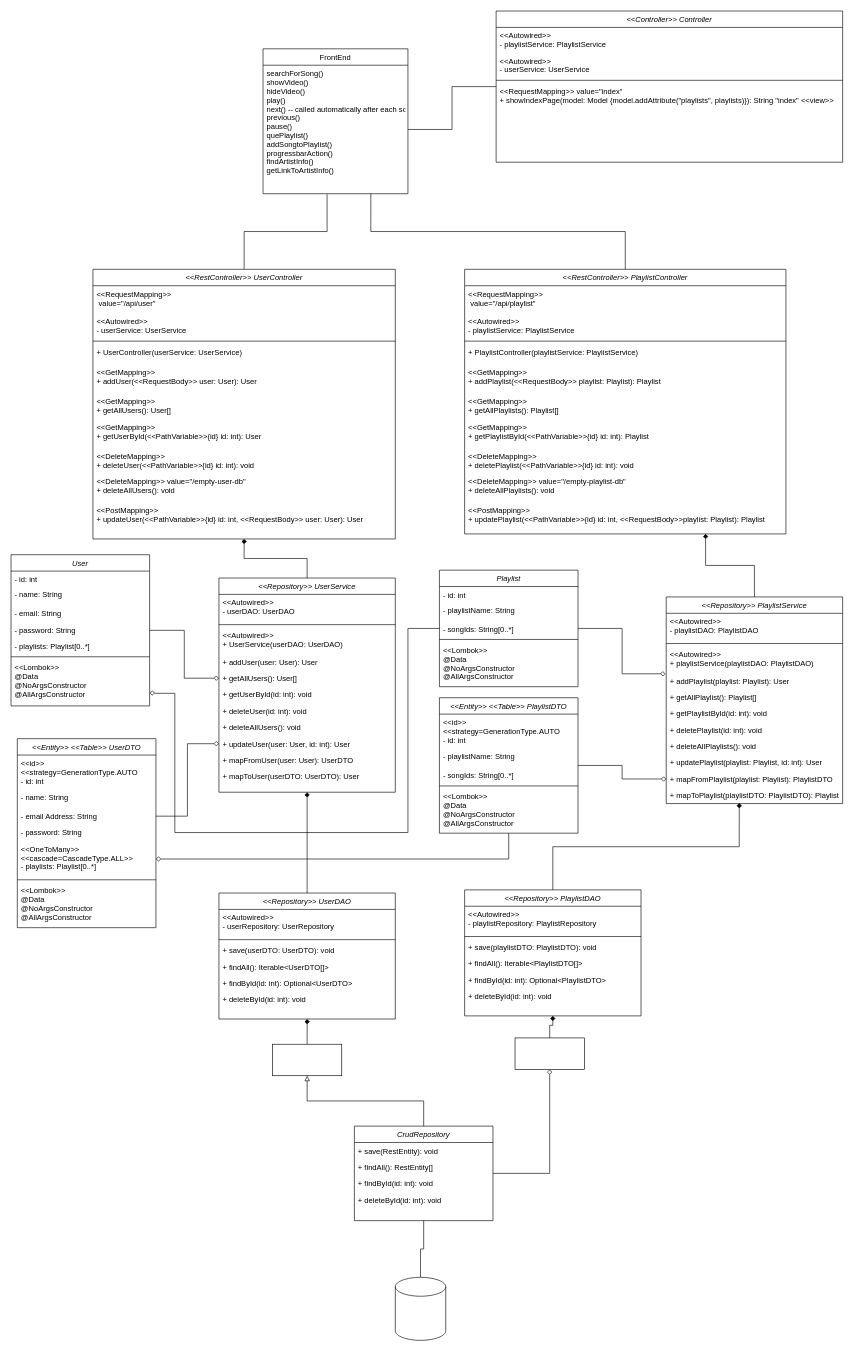
Some shapes in this 854 by 1351 pixel diagram are drawn without their labels. The shapes that lost their labels are listed below. From the top down, each one's centre as x and y in pixels, then its label:
At (307,1060): "«interface» UserRepository".
At (549,1053): "«interface» PlaylistRepository".
At (420,1308): "PostgreSQL DB".
